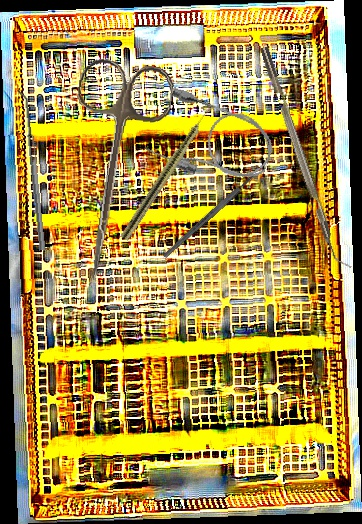Cannula: (141, 84, 282, 197)
Chopper: (260, 42, 352, 274)
Handpiece: (119, 101, 217, 243)
Iris Scissors: (52, 56, 176, 288)
Scalpel Handle: (160, 171, 259, 260)
Spatula Surgical: (16, 88, 46, 252)
